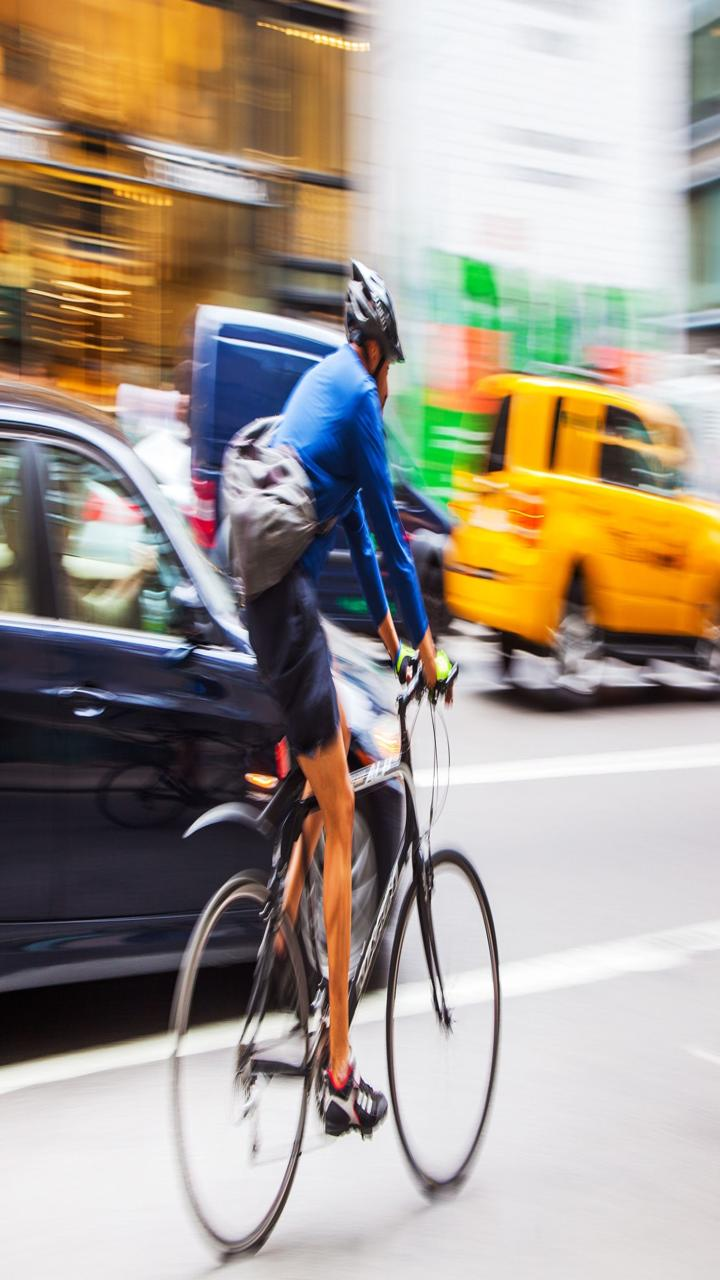bicycle: (116, 699, 588, 1257)
cyclist: (202, 215, 451, 1135)
vehicle: (6, 389, 466, 1028), (426, 348, 720, 683)
